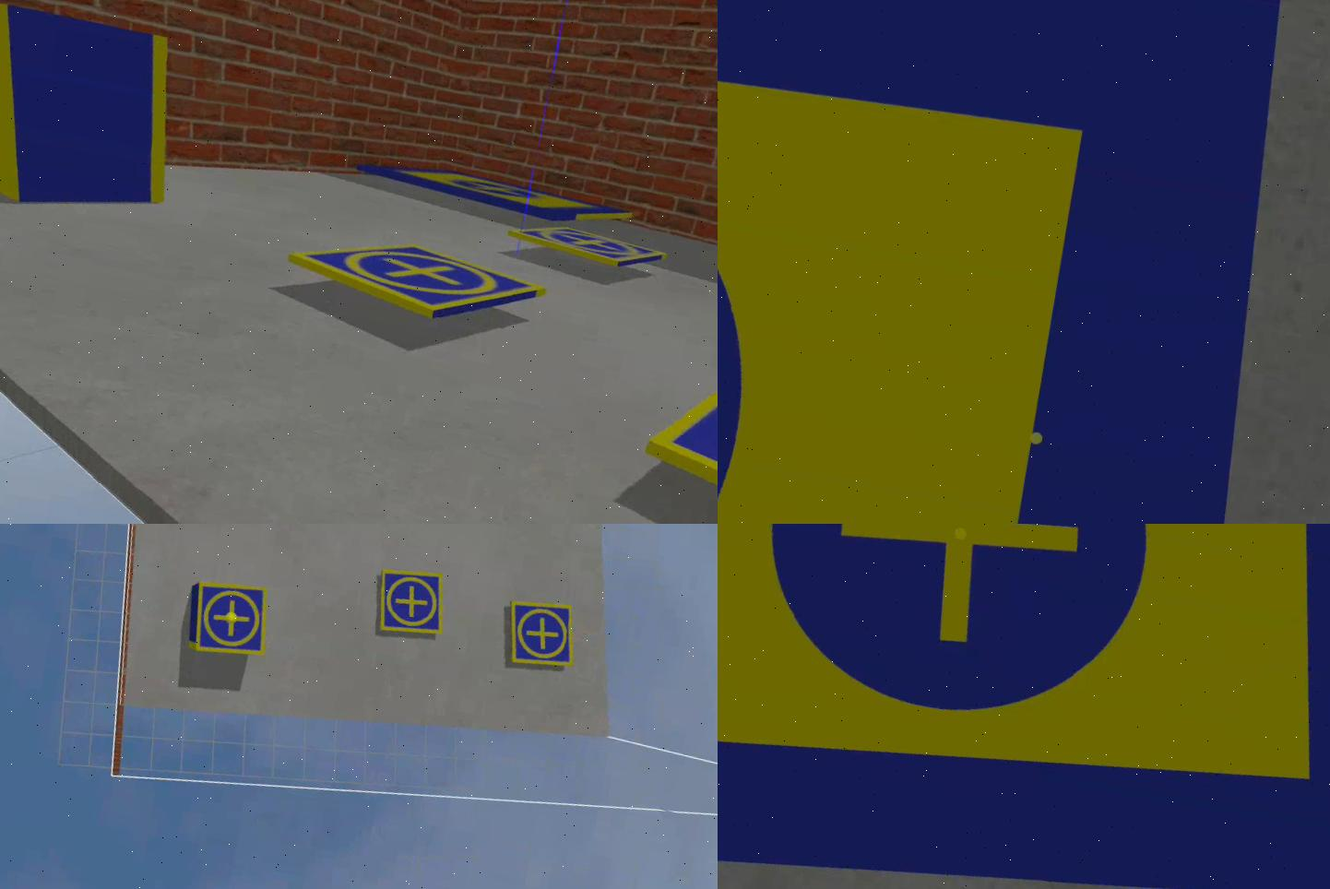large_base: (718, 1, 1330, 525), (718, 525, 1330, 889), (354, 150, 637, 235)
small_base: (285, 221, 547, 336), (514, 217, 671, 280), (186, 579, 279, 666), (502, 596, 586, 678), (372, 565, 454, 644)
